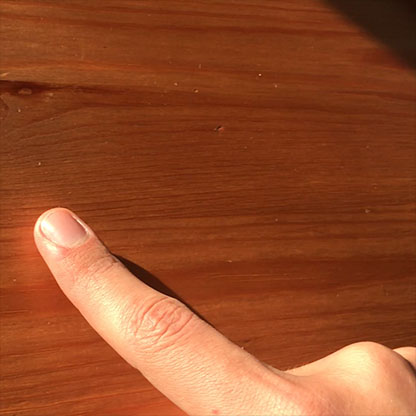fingertip: (21, 198, 109, 265)
